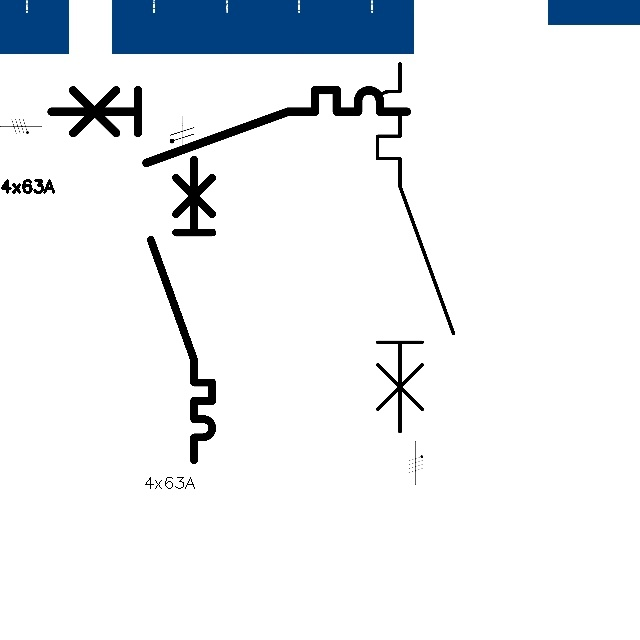interruptor_termomagnetico: (368, 54, 463, 441), (42, 81, 416, 172), (143, 151, 220, 467)
